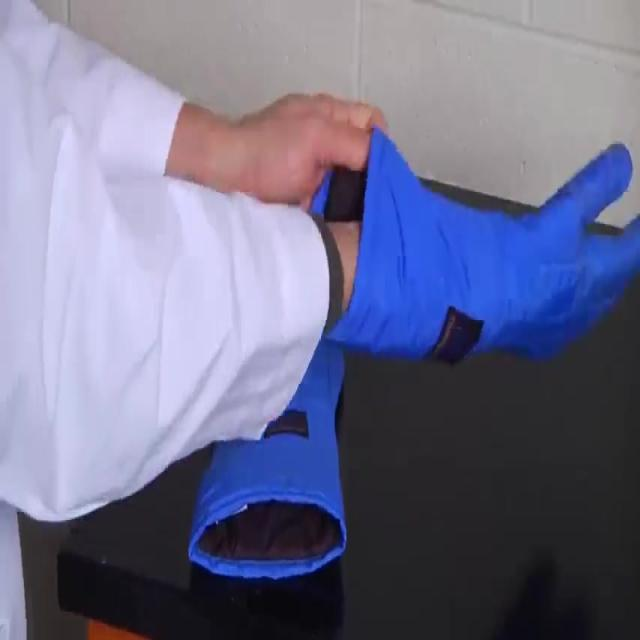labcoat: (0, 0, 331, 640)
